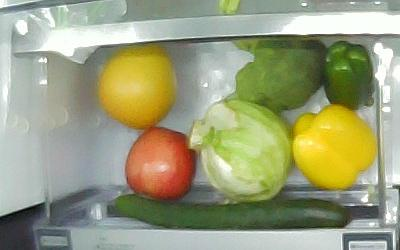apple: (125, 126, 196, 202)
broccoli: (229, 36, 328, 113)
cucumber: (108, 194, 352, 230)
grapefruit: (97, 45, 177, 129)
lettuce: (188, 98, 291, 202)
paprika: (292, 104, 377, 192), (323, 41, 375, 111)
